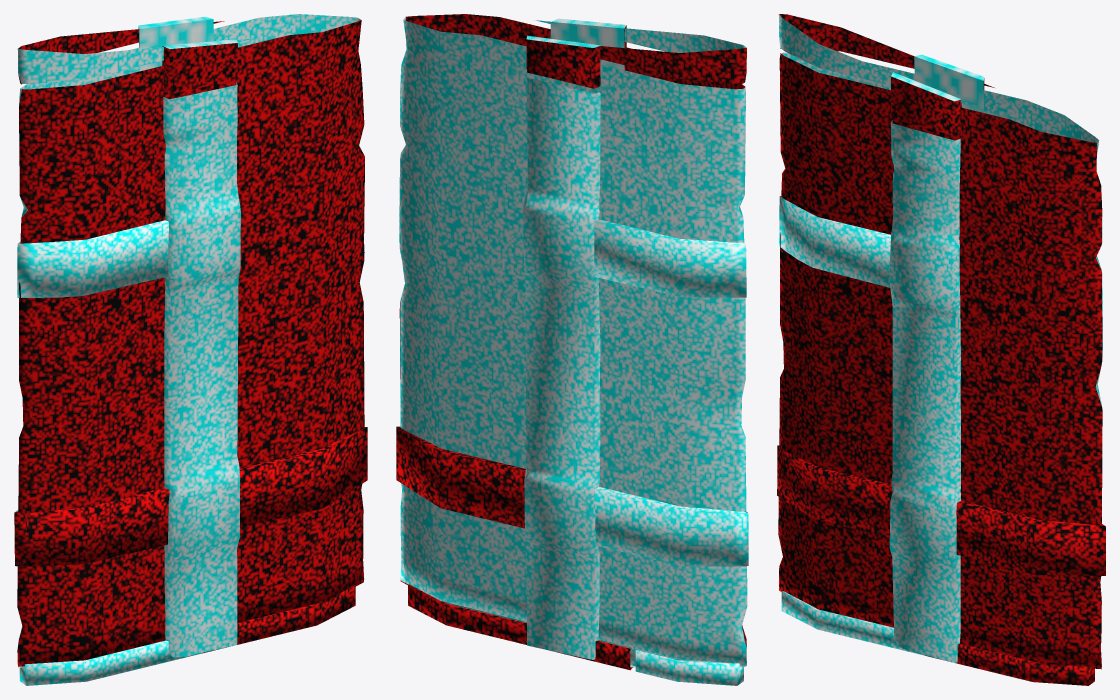
File: SM_WP_BRaabit_StrongMan_02_HJS.fbx
3 views of the same model, side by side, from view 1: azimuth 30°, elevation 25°; view 2: azimuth 150°, elevation 25°; view 3: azimuth 330°, elevation 25° (orthographic). The views are drawn at different scales.
Visible parts, largest first — view 1: SM_WP_BRaabit_StrongMan_02_HJS; view 2: SM_WP_BRaabit_StrongMan_02_HJS; view 3: SM_WP_BRaabit_StrongMan_02_HJS.
Boxes of the visible parts, x1,y1,x2,y2 form: SM_WP_BRaabit_StrongMan_02_HJS: [14, 14, 367, 685]; SM_WP_BRaabit_StrongMan_02_HJS: [396, 14, 748, 685]; SM_WP_BRaabit_StrongMan_02_HJS: [777, 14, 1105, 685].
Size of the model in its own units: 72.33 by 125 by 13.66.
